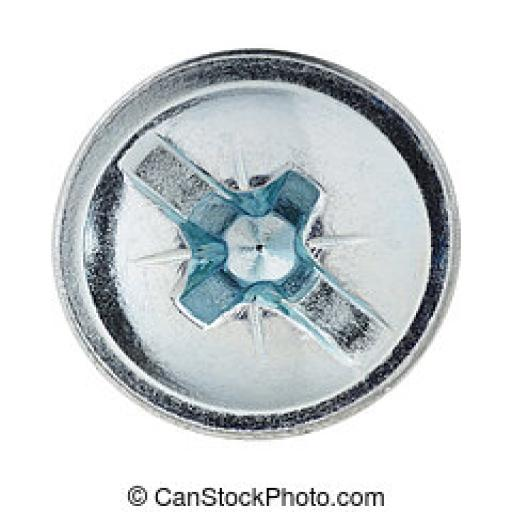Phillips: (58, 49, 453, 436)
